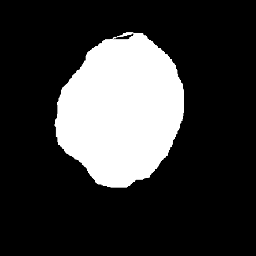mass: (61, 36, 182, 174)
